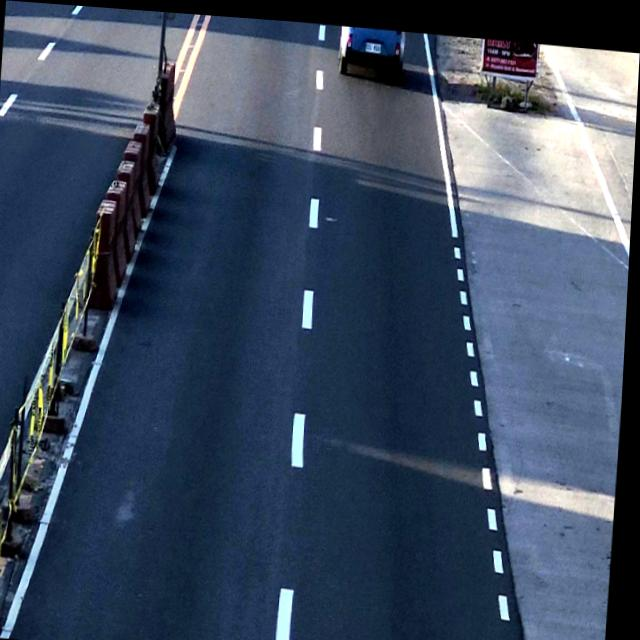Car: (334, 20, 406, 75)
License-Plate: (364, 33, 385, 49)
